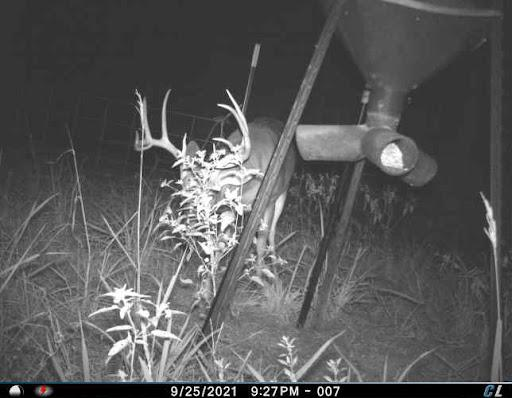Deer: (133, 82, 297, 291)
